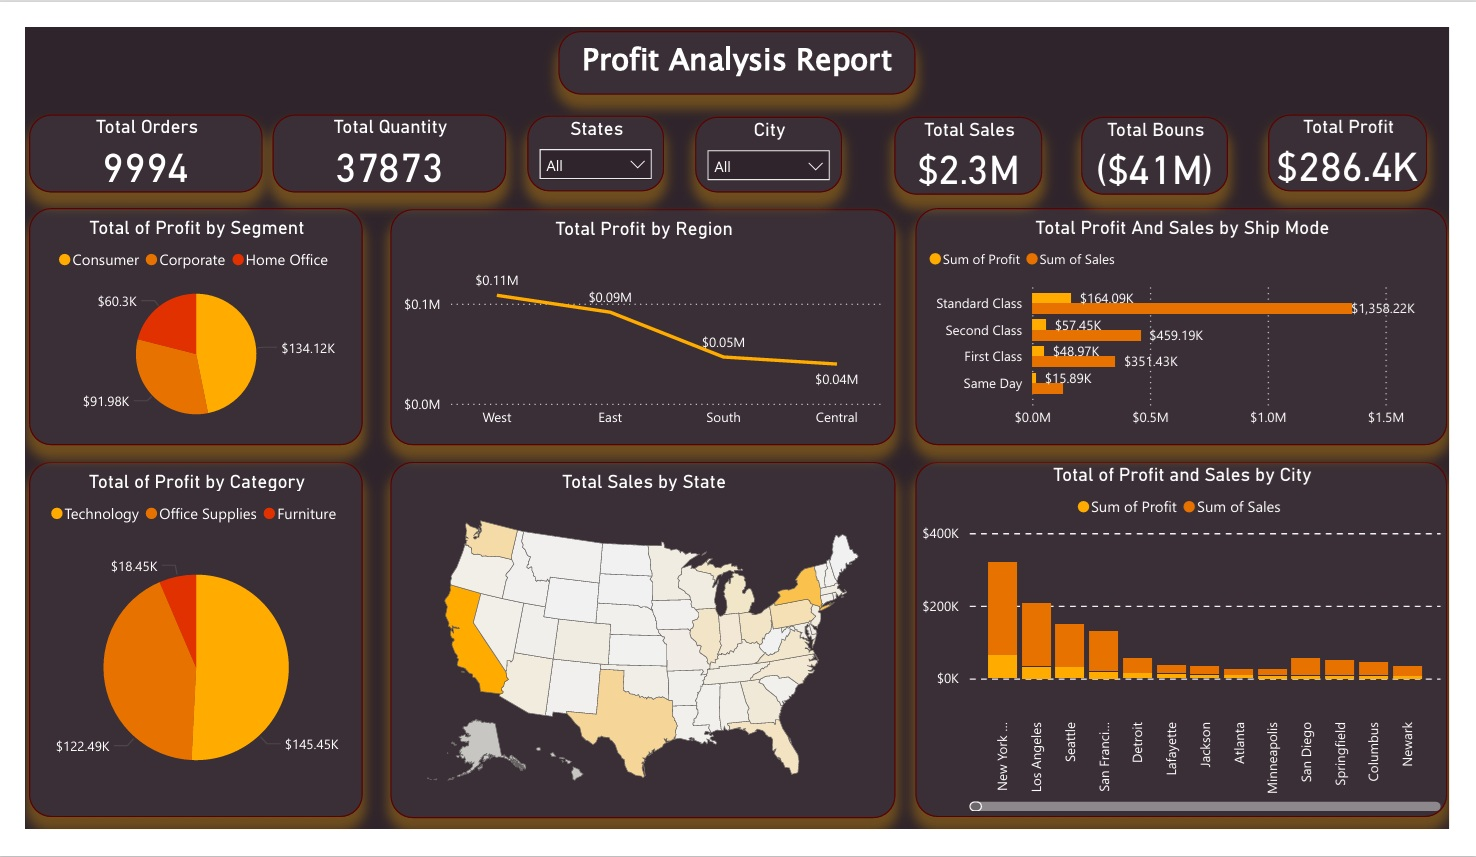

The page's visual inventory and layout, read from the dashboard file:
{"tool":"powerbi","page":{"name":"Page 1","canvas":[1280,720],"ordinal":0},"visuals":[{"type":"textbox","box":[478.6,2.9,321.4,57.1],"z":0},{"type":"card","title":"Total Orders","fields":{"Values":["CountNonNull(Table1.Order ID)"]},"box":[2.7,78.2,209.9,70],"z":1000},{"type":"card","title":"Total Sales","fields":{"Values":["Sum(Table1.Sales)"]},"box":[849.4,78.2,209.9,70],"z":2000},{"type":"card","title":"Total Profit","fields":{"Values":["Sum(Table1.Profit)"]},"box":[1067.6,78.2,209.9,70],"z":3000},{"type":"card","title":"Total Quantity","fields":{"Values":["Sum(Table1.Quantity)"]},"box":[222.3,78.2,209.9,70],"z":4000},{"type":"lineChart","title":"Total Profit by Region","fields":{"Category":["Table1.Region"],"Y":["Sum(Table1.Profit)"]},"box":[328,163.3,454.2,211.3],"z":5000},{"type":"pieChart","title":"Total of Profit by Category","fields":{"Category":["Table1.Category"],"Y":["Sum(Table1.Profit)"]},"box":[2.7,389.7,300.5,319.7],"z":6000},{"type":"pieChart","title":"Total of Profit by Segment","fields":{"Y":["Sum(Table1.Profit)"],"Category":["Table1.Segment"]},"box":[2.7,161.9,300.5,212.7],"z":7000},{"type":"columnChart","title":"Total of Profit and Sales by City","fields":{"Y":["Sum(Table1.Profit)","Sum(Table1.Sales)"],"Category":["Table1.City"]},"box":[800,389.7,477.5,319.7],"z":8000},{"type":"clusteredBarChart","title":"Total Profit And Sales by Ship Mode","fields":{"Category":["Table1.Ship Mode"],"Y":["Sum(Table1.Profit)","Sum(Table1.Sales)"]},"box":[800,161.9,477.5,212.7],"z":9000},{"type":"slicer","title":"City","fields":{"Values":["Table1.City"]},"box":[640,80,192.9,70],"z":10000},{"type":"shapeMap","fields":{"Value":["Table1.Total Sales"],"Category":["Table1.State"]},"box":[328,390,454,320],"z":11000},{"type":"slicer","title":"States","fields":{"Values":["Table1.State"]},"box":[432.9,78.6,192.9,70],"z":12000}]}

Visuals, with their boxes on the page's 1280x720 design canvas (x1, y1, x2, y2). These are canvas units, not pixel positions in the 1476x857 screenshot, which may show the page scaled, cropped or inside an application window:
textbox: <region>479, 3, 800, 60</region>
"Total Orders" card: <region>3, 78, 213, 148</region>
"Total Sales" card: <region>849, 78, 1059, 148</region>
"Total Profit" card: <region>1068, 78, 1278, 148</region>
"Total Quantity" card: <region>222, 78, 432, 148</region>
"Total Profit by Region" lineChart: <region>328, 163, 782, 375</region>
"Total of Profit by Category" pieChart: <region>3, 390, 303, 709</region>
"Total of Profit by Segment" pieChart: <region>3, 162, 303, 375</region>
"Total of Profit and Sales by City" columnChart: <region>800, 390, 1278, 709</region>
"Total Profit And Sales by Ship Mode" clusteredBarChart: <region>800, 162, 1278, 375</region>
"City" slicer: <region>640, 80, 833, 150</region>
shapeMap - Table1.Total Sales x Table1.State: <region>328, 390, 782, 710</region>
"States" slicer: <region>433, 79, 626, 149</region>
